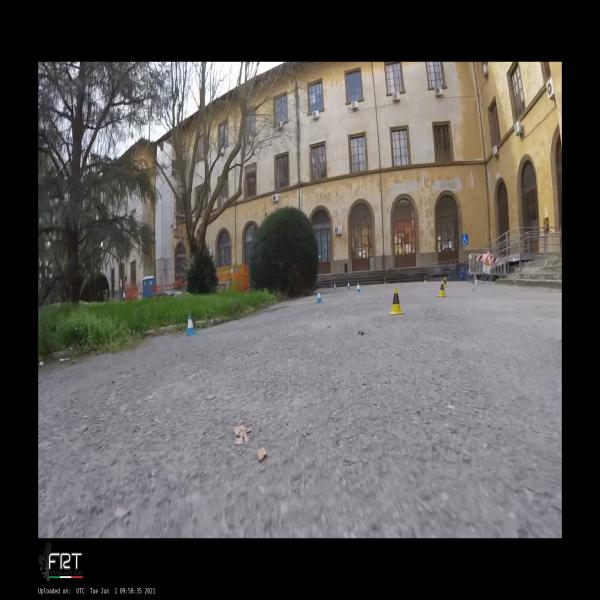blue_cone: (185, 314, 198, 335), (316, 289, 324, 303), (356, 282, 361, 294), (346, 281, 350, 289), (334, 284, 336, 290)
yellow_cone: (388, 288, 405, 315), (437, 280, 447, 298), (444, 276, 447, 288), (424, 276, 427, 283), (383, 278, 386, 285)
